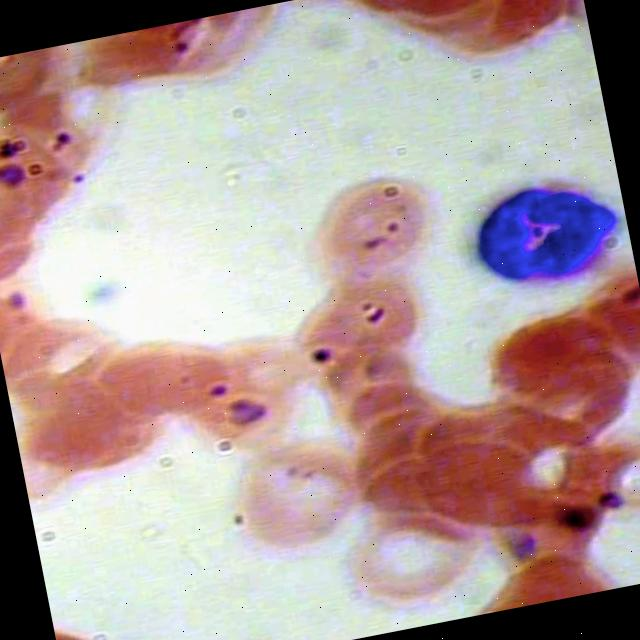RBC: (294, 250, 444, 384), (228, 424, 379, 557), (99, 310, 250, 443), (475, 291, 626, 424), (344, 496, 494, 629), (414, 418, 564, 551), (18, 363, 168, 496), (299, 160, 450, 292), (173, 328, 324, 460)
WBC: (464, 150, 637, 308)
